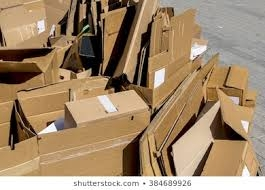paper: (3, 77, 145, 175), (130, 67, 215, 178), (145, 4, 216, 105), (107, 1, 170, 89), (202, 52, 259, 109), (197, 134, 265, 176), (1, 35, 58, 82)
